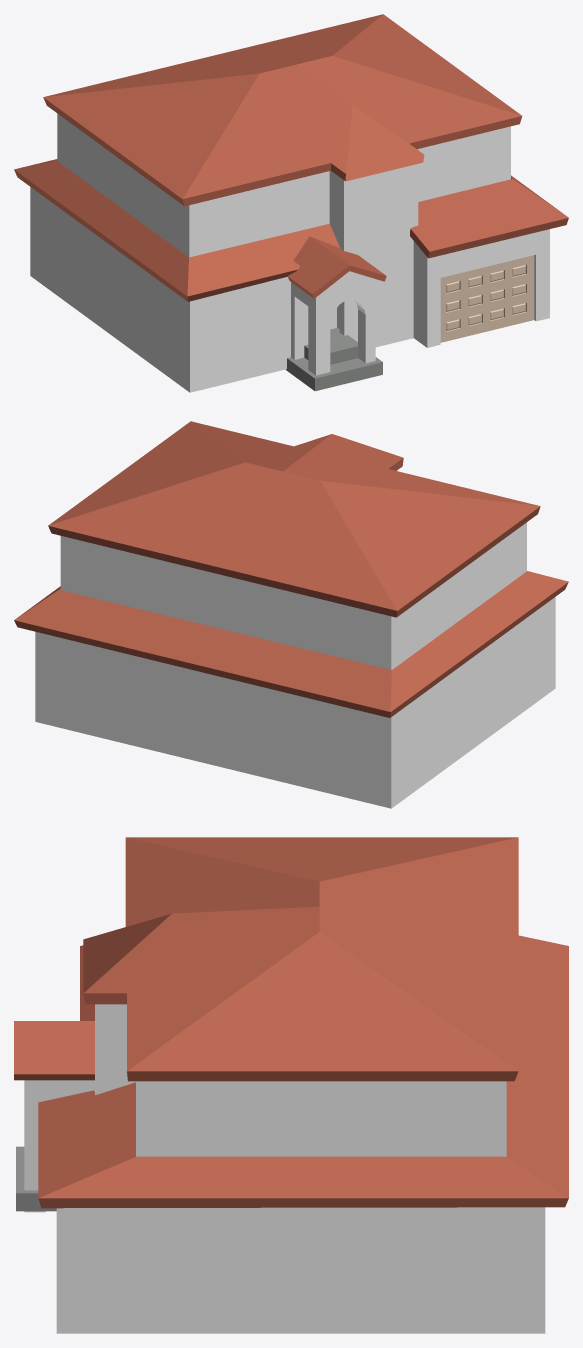
File: HouseTestFile.glb
3 renders of one model, top to bottom at view 1: azimuth 30°, elevation 25°; view 2: azimuth 150°, elevation 25°; view 3: azimuth 270°, elevation 25°, orthographic. The views are drawn at different scales.
Parts seen in each view (by area): view 1: Walls, Upper Roof Base, Lower Roof Base, Garage Door, Porch Structure, Porch Roof, Front Steps; view 2: Walls, Upper Roof Base, Lower Roof Base; view 3: Upper Roof Base, Walls, Lower Roof Base, Porch Roof, Porch Structure, Front Steps.
Part boxes in pixels (bbox=[...]): Walls: bbox=[30, 113, 549, 392]; Upper Roof Base: bbox=[43, 14, 522, 206]; Lower Roof Base: bbox=[14, 159, 568, 301]; Garage Door: bbox=[440, 255, 534, 342]; Porch Structure: bbox=[291, 271, 375, 375]; Porch Roof: bbox=[287, 236, 386, 298]; Front Steps: bbox=[285, 328, 382, 391]; Walls: bbox=[35, 470, 555, 808]; Upper Roof Base: bbox=[48, 421, 540, 617]; Lower Roof Base: bbox=[14, 571, 568, 717]; Upper Roof Base: bbox=[83, 837, 518, 1081]; Walls: bbox=[56, 1004, 545, 1333]; Lower Roof Base: bbox=[38, 935, 568, 1208]; Porch Roof: bbox=[14, 1021, 94, 1080]; Porch Structure: bbox=[24, 1080, 94, 1212]; Front Steps: bbox=[16, 1146, 56, 1211].
Size of what is drawn, in the model's own units: 10.79 by 6.44 by 10.03.
